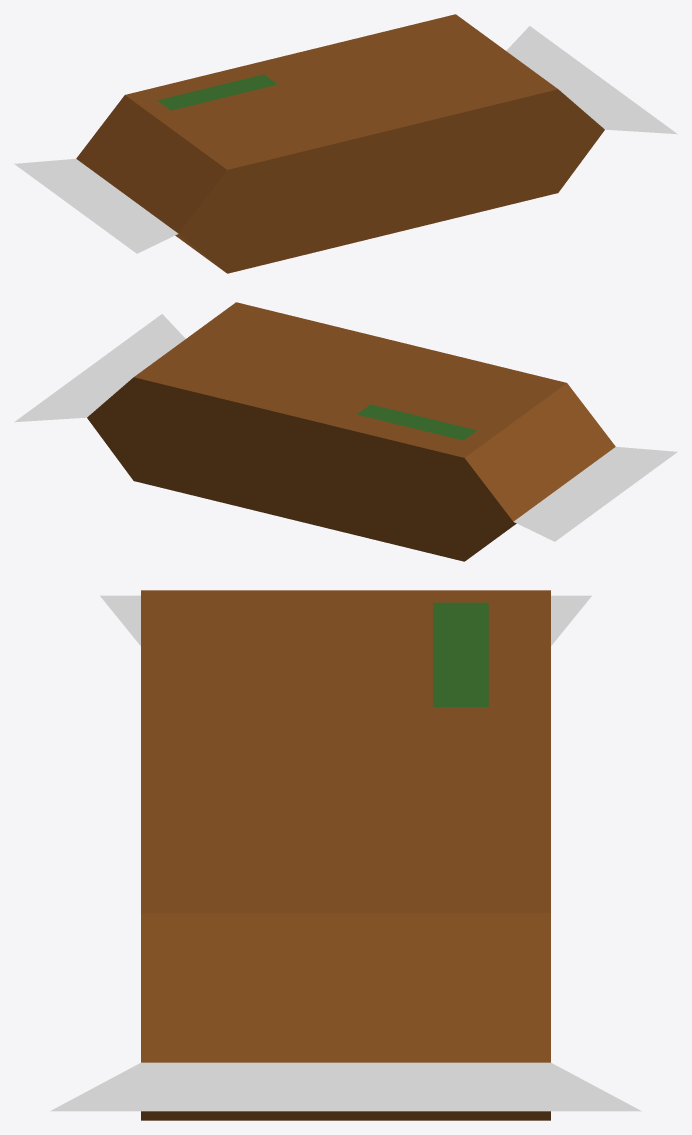
Rendered from i_nutbar.glb.
The picture shows the model from 3 angles, top to bottom: view 1: azimuth 30°, elevation 25°; view 2: azimuth 150°, elevation 25°; view 3: azimuth 270°, elevation 25°; orthographic projection. The views are drawn at different scales.
Parts seen in each view (by area): view 1: Cube, Plane; view 2: Cube, Plane; view 3: Cube, Plane.
Boxes of the visible parts, <box> form: Cube: <box>14,14,677,273</box>; Plane: <box>157,74,277,110</box>; Cube: <box>14,302,677,561</box>; Plane: <box>357,404,476,440</box>; Cube: <box>50,590,641,1120</box>; Plane: <box>433,602,488,706</box>.
Bounding box in the file's own units: 1.15 × 0.2198 × 0.5588.
